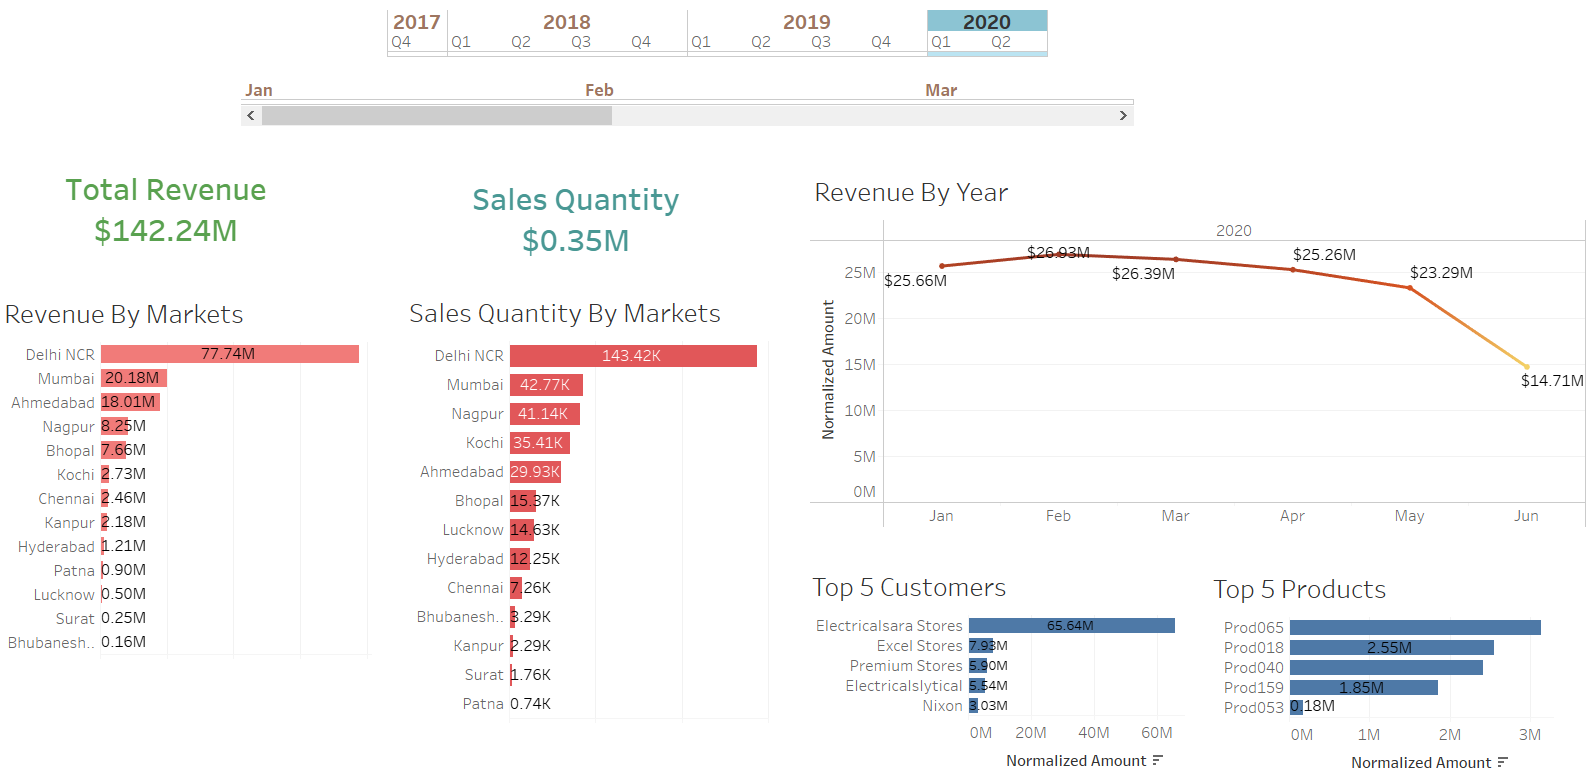

The page's visual inventory and layout, read from the dashboard file:
{"tool":"tableau","page":{"name":"Dashboard 1","canvas":[1600,900],"ordinal":0},"visuals":[{"type":"worksheet","title":"Year","mark":"Automatic","cols":["cy_date","cy_date"],"box":[394,0,723,65]},{"type":"worksheet","title":"Month","mark":"Automatic","cols":["cy_date"],"box":[248,69,893,77]},{"type":"worksheet","title":"Revenue","mark":"Automatic","box":[63,157,254,119]},{"type":"worksheet","title":"Quantity","mark":"Automatic","box":[473,167,229,105]},{"type":"worksheet","title":"Revenue By Year","mark":"Automatic","rows":["Calculation_1557964040742215681"],"cols":["cy_date","cy_date"],"box":[817,175,776,358]},{"type":"worksheet","title":"Sales Quantity By Markets","mark":"Automatic","rows":["markets_name"],"cols":["sales_qty"],"box":[412,296,364,518]},{"type":"worksheet","title":"Revenue By Markets","mark":"Automatic","rows":["markets_name"],"cols":["Calculation_1557964040742215681"],"box":[7,297,372,505]},{"type":"worksheet","title":"Top 5 Customers","mark":"Automatic","rows":["custmer_name"],"cols":["Calculation_1557964040742215681"],"box":[815,570,377,223]},{"type":"worksheet","title":"Top 5 Products","mark":"Automatic","rows":["product_code (products)"],"cols":["Calculation_1557964040742215681"],"box":[1216,572,345,216]}]}

Visuals, with their boxes on the page's 1600x900 design canvas (x1, y1, x2, y2). These are canvas units, not pixel positions in the 1593x784 screenshot, which may show the page scaled, cropped or inside an application window:
"Year" worksheet: <box>394,0,1117,65</box>
"Month" worksheet: <box>248,69,1141,146</box>
"Revenue" worksheet: <box>63,157,317,276</box>
"Quantity" worksheet: <box>473,167,702,272</box>
"Revenue By Year" worksheet: <box>817,175,1593,533</box>
"Sales Quantity By Markets" worksheet: <box>412,296,776,814</box>
"Revenue By Markets" worksheet: <box>7,297,379,802</box>
"Top 5 Customers" worksheet: <box>815,570,1192,793</box>
"Top 5 Products" worksheet: <box>1216,572,1561,788</box>
